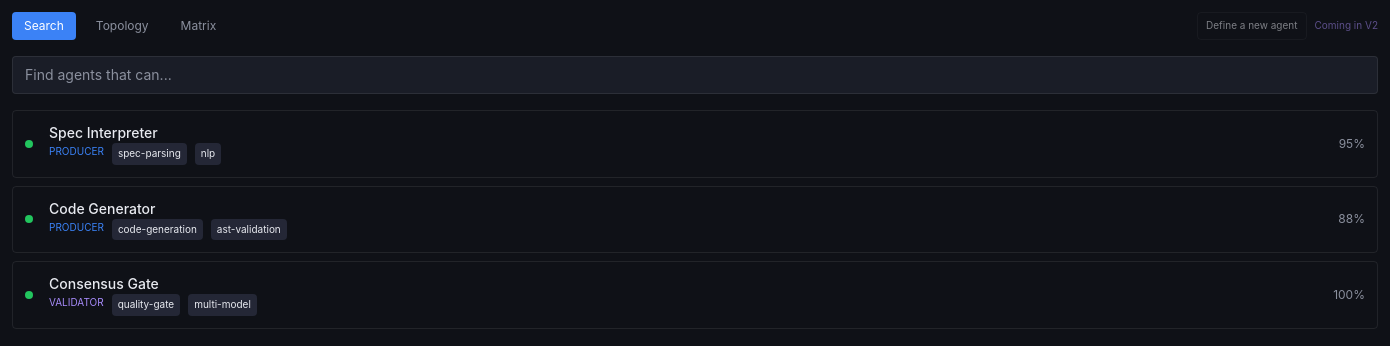
it: AgentRoster (Phase 2) › switches to matrix tab
The width and height of the screenshot is (1390, 346).
Click the button "Matrix". click: [198, 26]
box: x1=169 y1=12 x2=228 y2=40
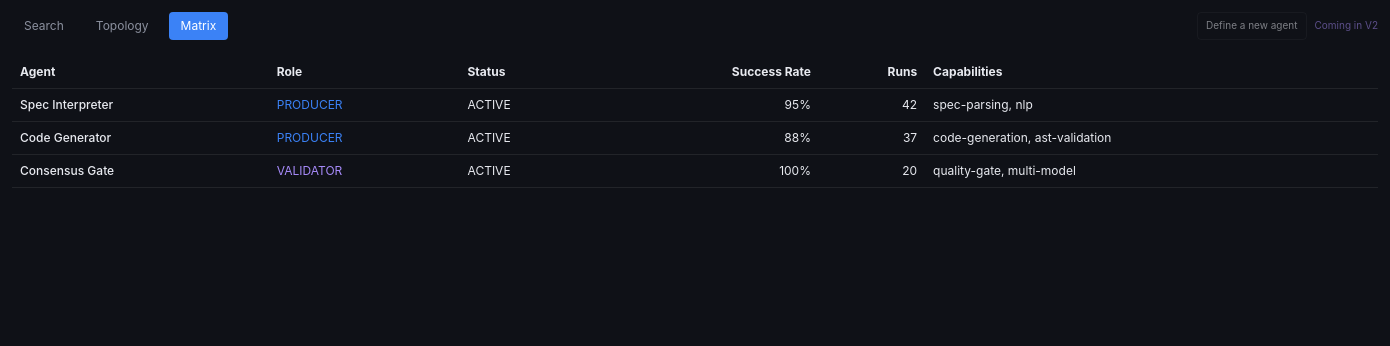
Now the element with test id "matrix-view" is shown, box x1=12 y1=56 x2=1378 y2=188
